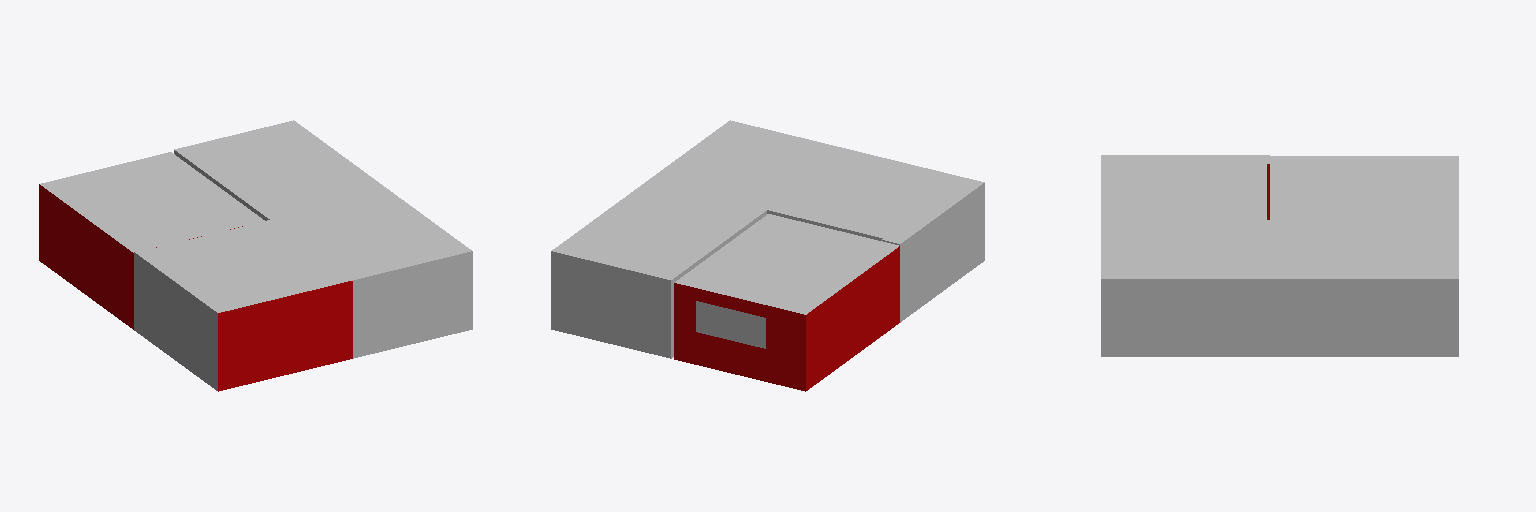
File: basement-wayverb.obj
The picture shows the model from 3 angles: view 1: azimuth 30°, elevation 25°; view 2: azimuth 150°, elevation 25°; view 3: azimuth 270°, elevation 25°; orthographic projection.
Visible parts, largest first — view 1: room-right-wall-backside; view 2: room-right-wall-backside; view 3: room-right-wall-backside.
Boxes of the visible parts, x1,y1,x2,y2 form: room-right-wall-backside: [39, 120, 472, 391]; room-right-wall-backside: [551, 120, 984, 391]; room-right-wall-backside: [1101, 155, 1458, 356].
Bounding box in the file's own units: 8.64 × 2.54 × 10.5.